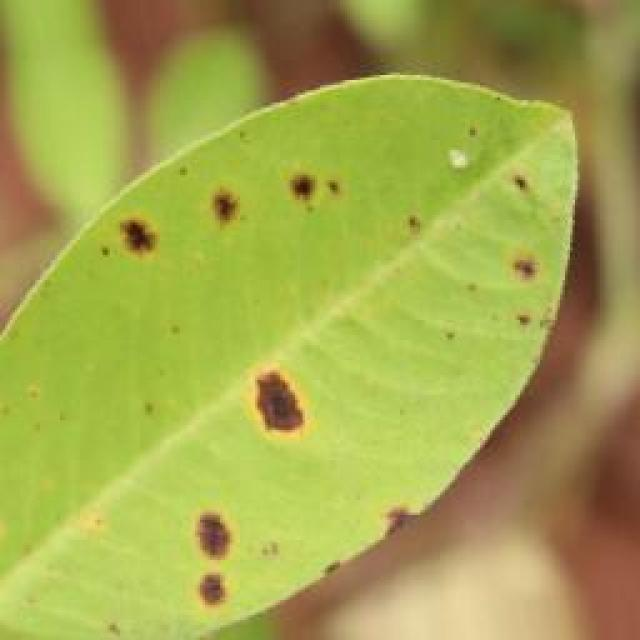Early_leaf_spot: (208, 346, 334, 474), (270, 140, 390, 258), (160, 494, 253, 633), (110, 189, 192, 306), (462, 98, 544, 206), (191, 161, 263, 254), (489, 230, 549, 332), (358, 486, 431, 548)
